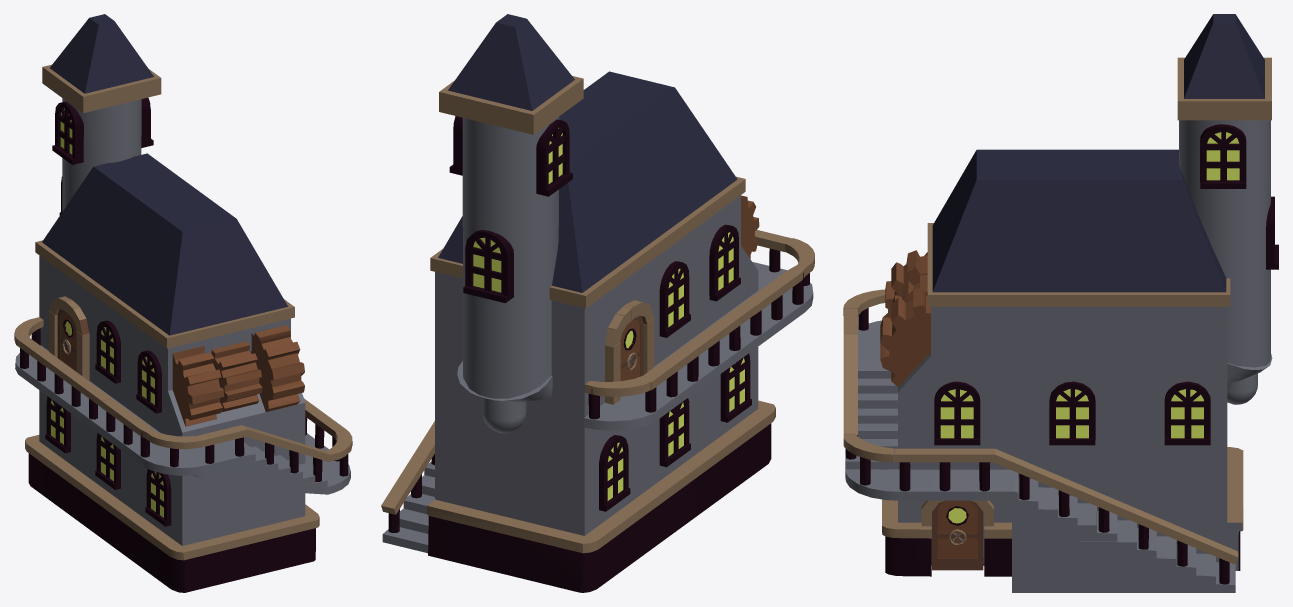
File: Building10.fbx
The picture shows the model from 3 angles, left to right: view 1: azimuth 30°, elevation 25°; view 2: azimuth 150°, elevation 25°; view 3: azimuth 270°, elevation 25°; orthographic projection. The views are drawn at different scales.
Visible parts, largest first — view 1: house.001; view 2: house.001; view 3: house.001.
Boxes of the visible parts, x1,y1,x2,y2 form: house.001: [14, 14, 352, 592]; house.001: [381, 14, 814, 592]; house.001: [843, 14, 1278, 592].
Size of the model in its own units: 840 by 1790 by 1363.
